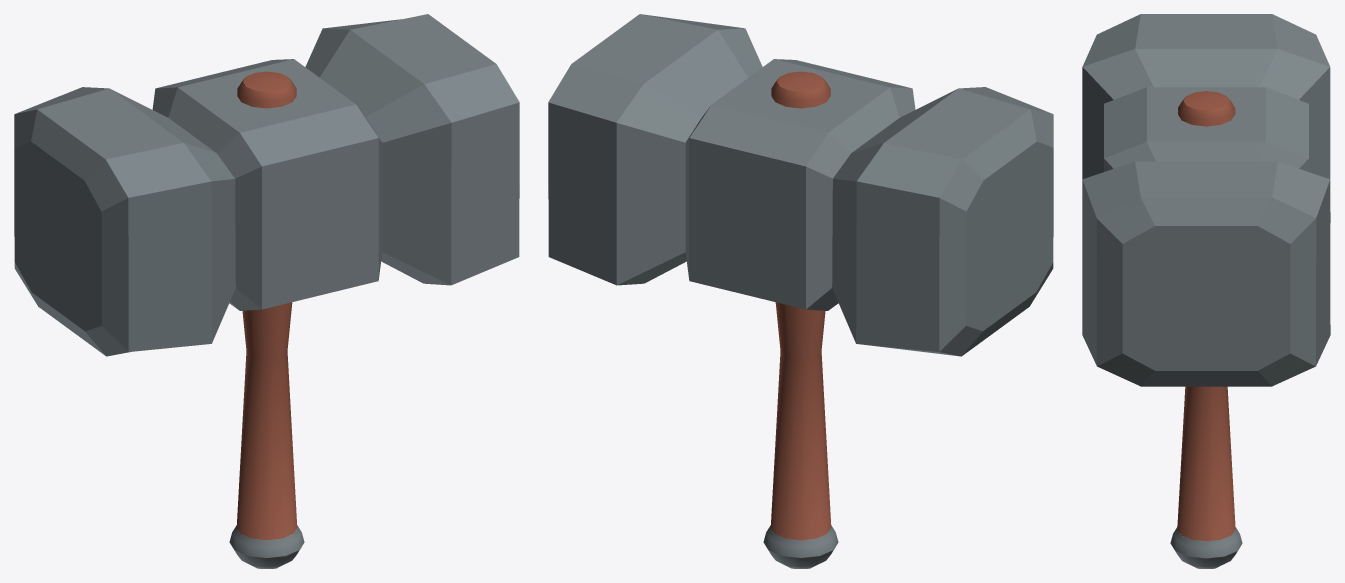
File: hammer.gltf
3 renders of one model, left to right at view 1: azimuth 30°, elevation 25°; view 2: azimuth 150°, elevation 25°; view 3: azimuth 270°, elevation 25°, orthographic. The views are drawn at different scales.
Visible parts, largest first — view 1: Cube4163, Cube4163_1, Cube4163_2; view 2: Cube4163, Cube4163_1, Cube4163_2; view 3: Cube4163, Cube4163_1, Cube4163_2.
Boxes of the visible parts, x1,y1,x2,y2 form: Cube4163: [14, 14, 519, 356]; Cube4163_1: [236, 71, 297, 540]; Cube4163_2: [229, 525, 304, 568]; Cube4163: [548, 14, 1053, 356]; Cube4163_1: [770, 71, 831, 540]; Cube4163_2: [763, 525, 838, 568]; Cube4163: [1082, 14, 1330, 386]; Cube4163_1: [1177, 91, 1235, 541]; Cube4163_2: [1170, 527, 1242, 568].
Bounding box in the file's own units: 0.7876 × 0.8701 × 0.4209.
